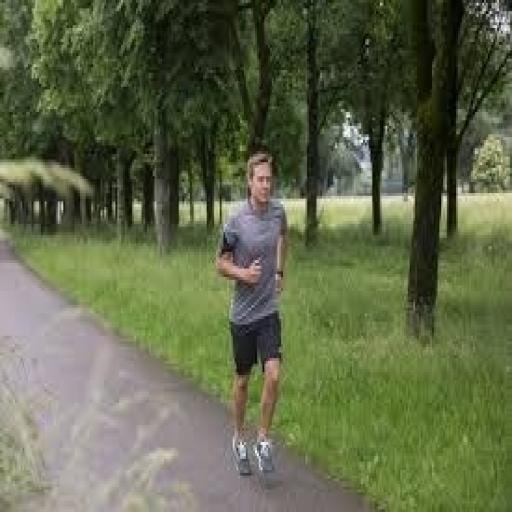running: (212, 148, 292, 478)
